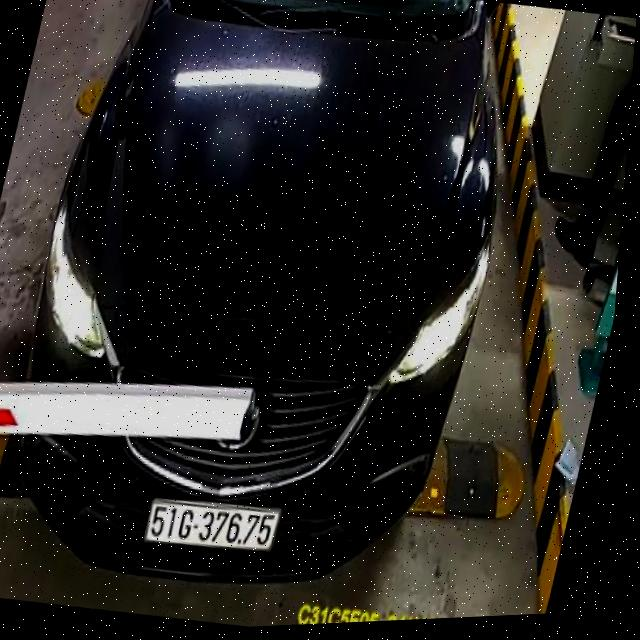car: (0, 0, 554, 626)
plate: (138, 488, 283, 561)
